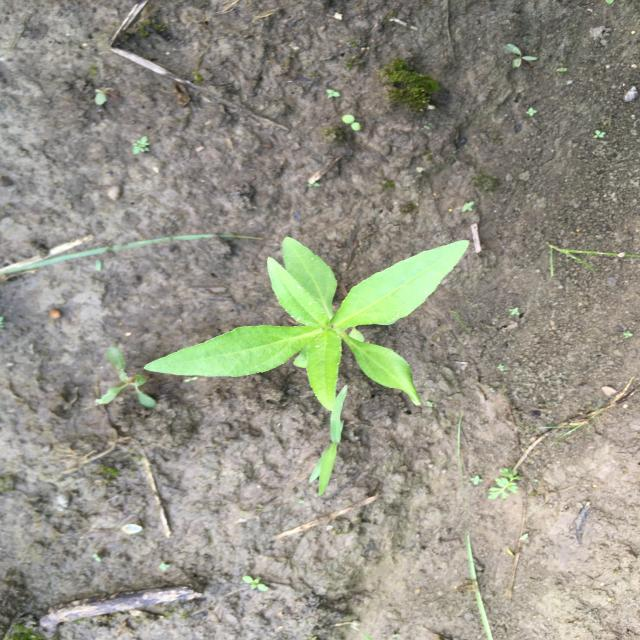Eclipta: (140, 234, 470, 412)
